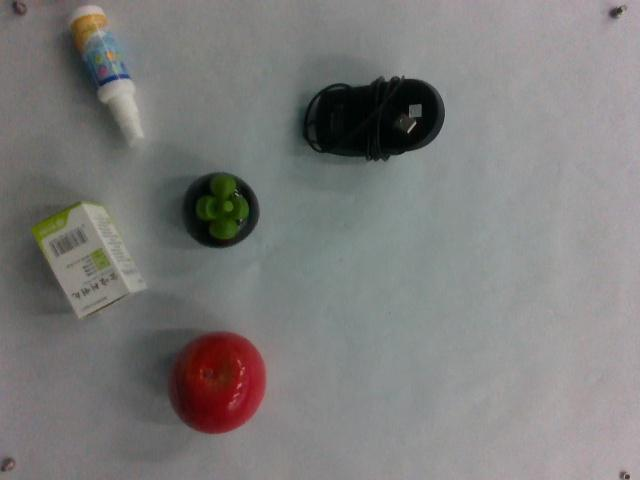apple: (168, 330, 268, 435)
carton: (28, 199, 151, 322)
detergent: (58, 6, 155, 148)
mangosteen: (182, 170, 259, 247)
mouse: (302, 73, 443, 164)
